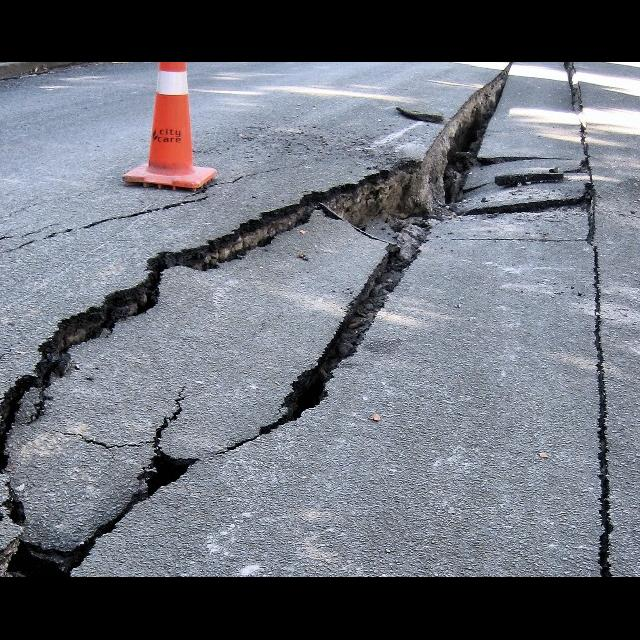retak_memanjang: (248, 254, 433, 435), (552, 237, 640, 577), (0, 294, 133, 467), (537, 62, 632, 261), (0, 204, 181, 262), (62, 383, 188, 456)
